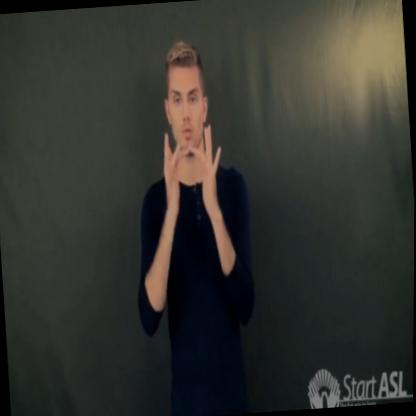Internet: (152, 110, 234, 222)
